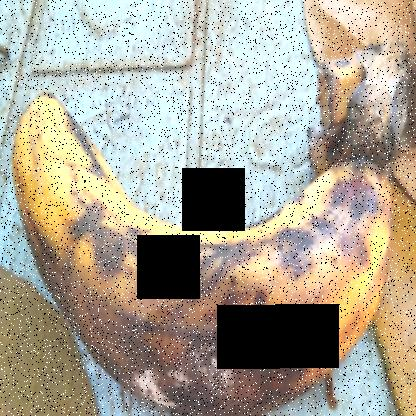rotten: (6, 85, 388, 415)
